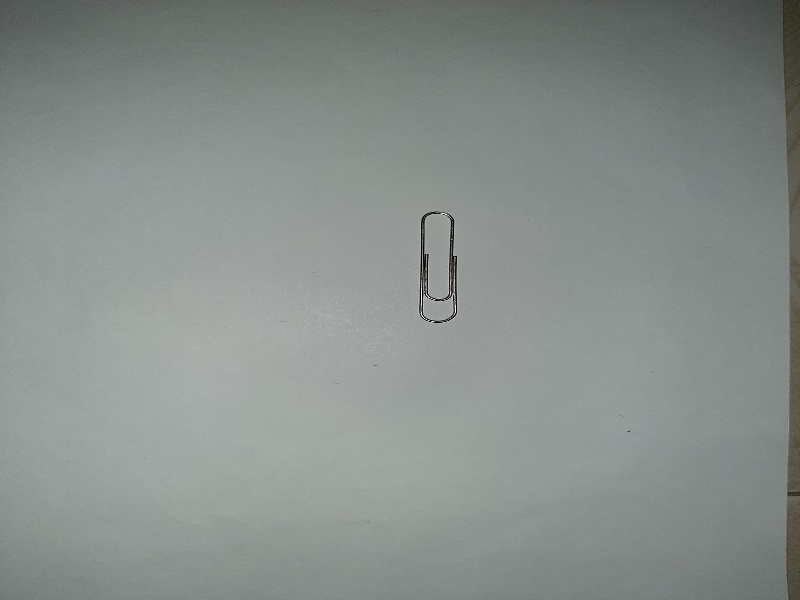Big Jumpclip: (414, 208, 462, 333)
